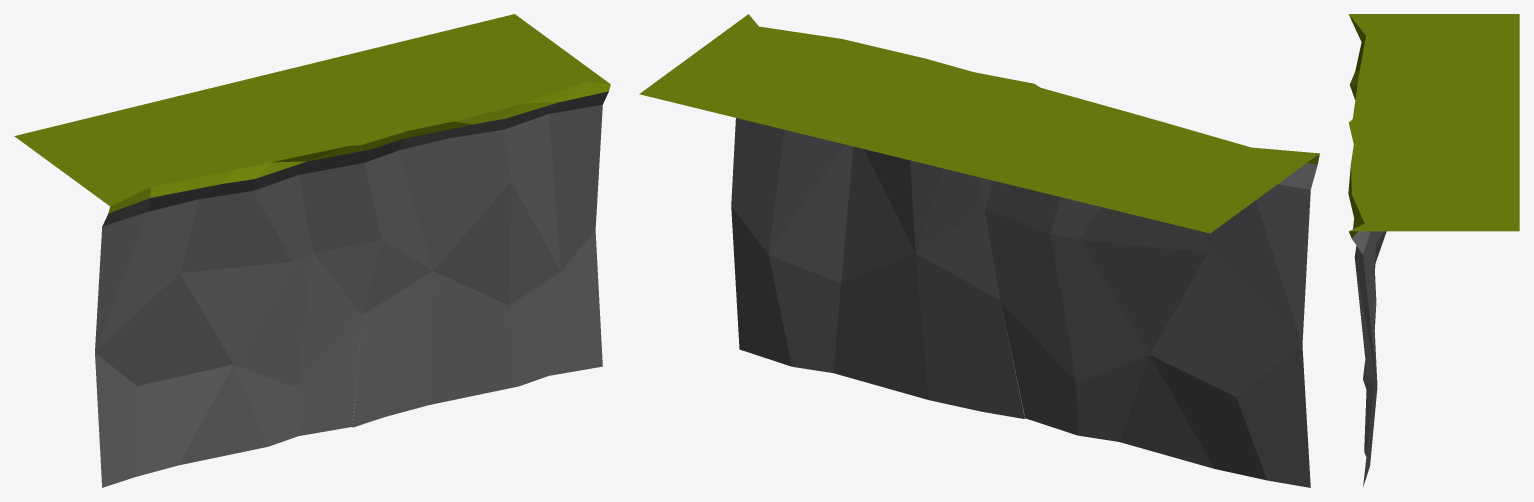
The model's file is mesh_cliff_wall_4m.fbx.
3 views of the same model, side by side, from view 1: azimuth 30°, elevation 25°; view 2: azimuth 150°, elevation 25°; view 3: azimuth 270°, elevation 25° (orthographic). The views are drawn at different scales.
Parts seen in each view (by area): view 1: mesh_cliff_wall_4m; view 2: mesh_cliff_wall_4m; view 3: mesh_cliff_wall_4m.
Part boxes in pixels (bbox=[...]): mesh_cliff_wall_4m: bbox=[14, 14, 610, 487]; mesh_cliff_wall_4m: bbox=[639, 14, 1319, 487]; mesh_cliff_wall_4m: bbox=[1348, 14, 1519, 486].
Bounding box in the file's own units: 400 × 220 × 133.
